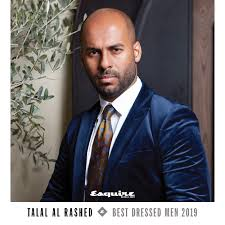middle_eastern_male: (76, 14, 142, 106)
